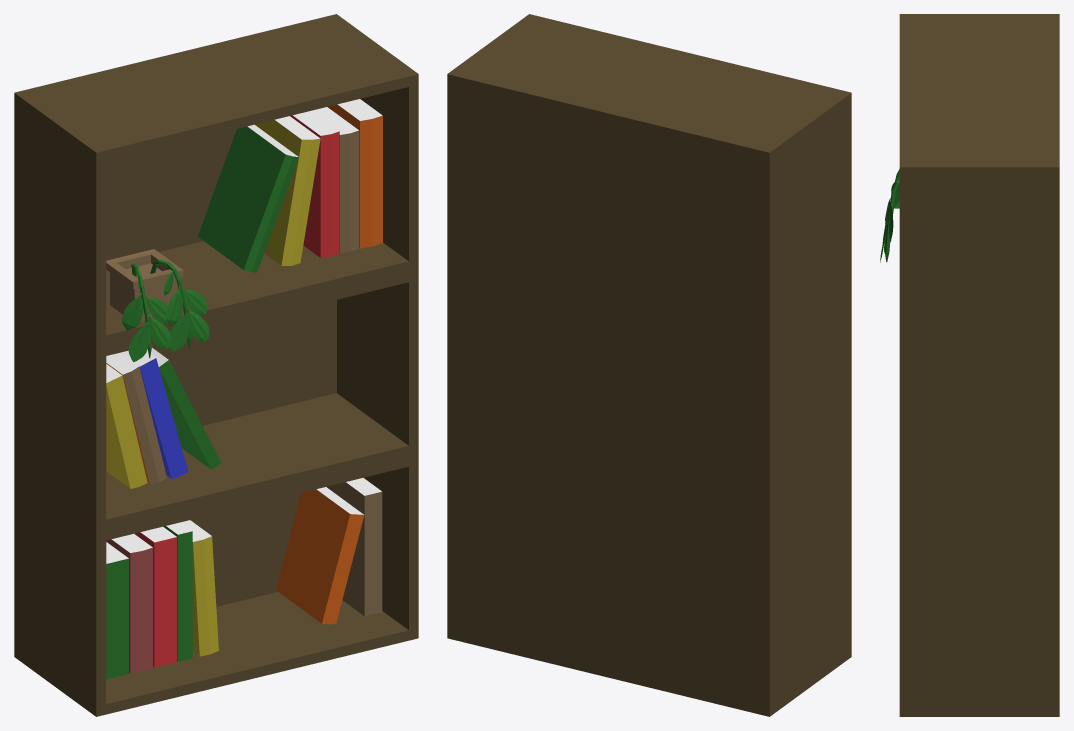
File: bookshelfv2.glb
3 renders of one model, left to right at view 1: azimuth 30°, elevation 25°; view 2: azimuth 150°, elevation 25°; view 3: azimuth 270°, elevation 25°, orthographic. The views are drawn at different scales.
Visible parts, largest first — view 1: BookShelf02; view 2: BookShelf02; view 3: BookShelf02.
Boxes of the visible parts, <box> form: BookShelf02: <box>14,14,418,716</box>; BookShelf02: <box>447,14,851,716</box>; BookShelf02: <box>880,14,1059,716</box>.
Size of the model in its own units: 4.53 by 7.58 by 2.24.
Materials: 1 (1 with a texture image).
